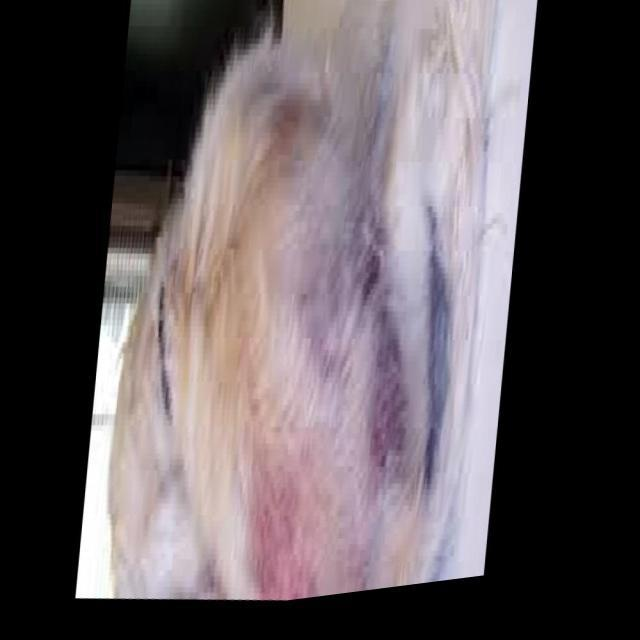allergic dermatitis: (237, 452, 336, 592)
